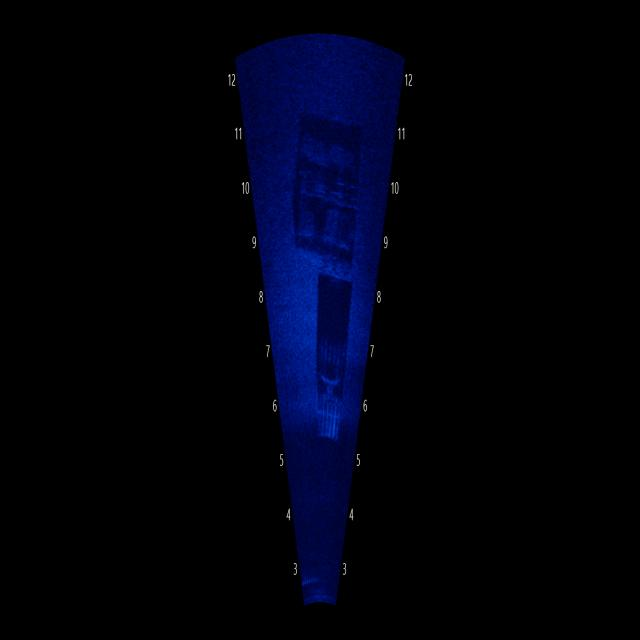square: (282, 102, 372, 260), (309, 316, 348, 470)
